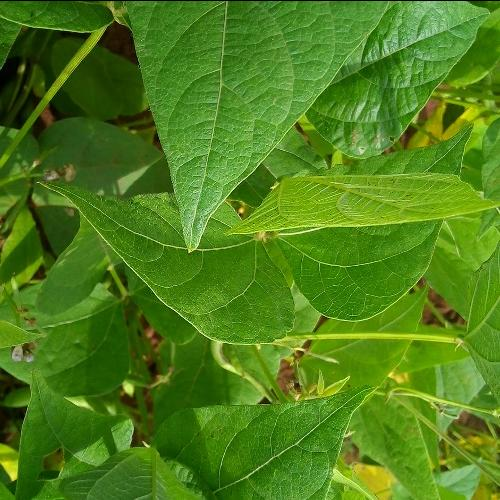sehat: (156, 14, 316, 98)
